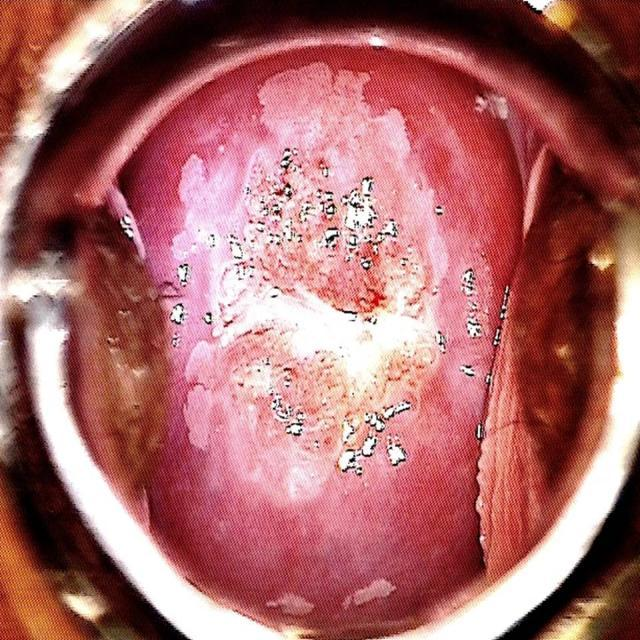cervical_lesion: (201, 62, 441, 489)
